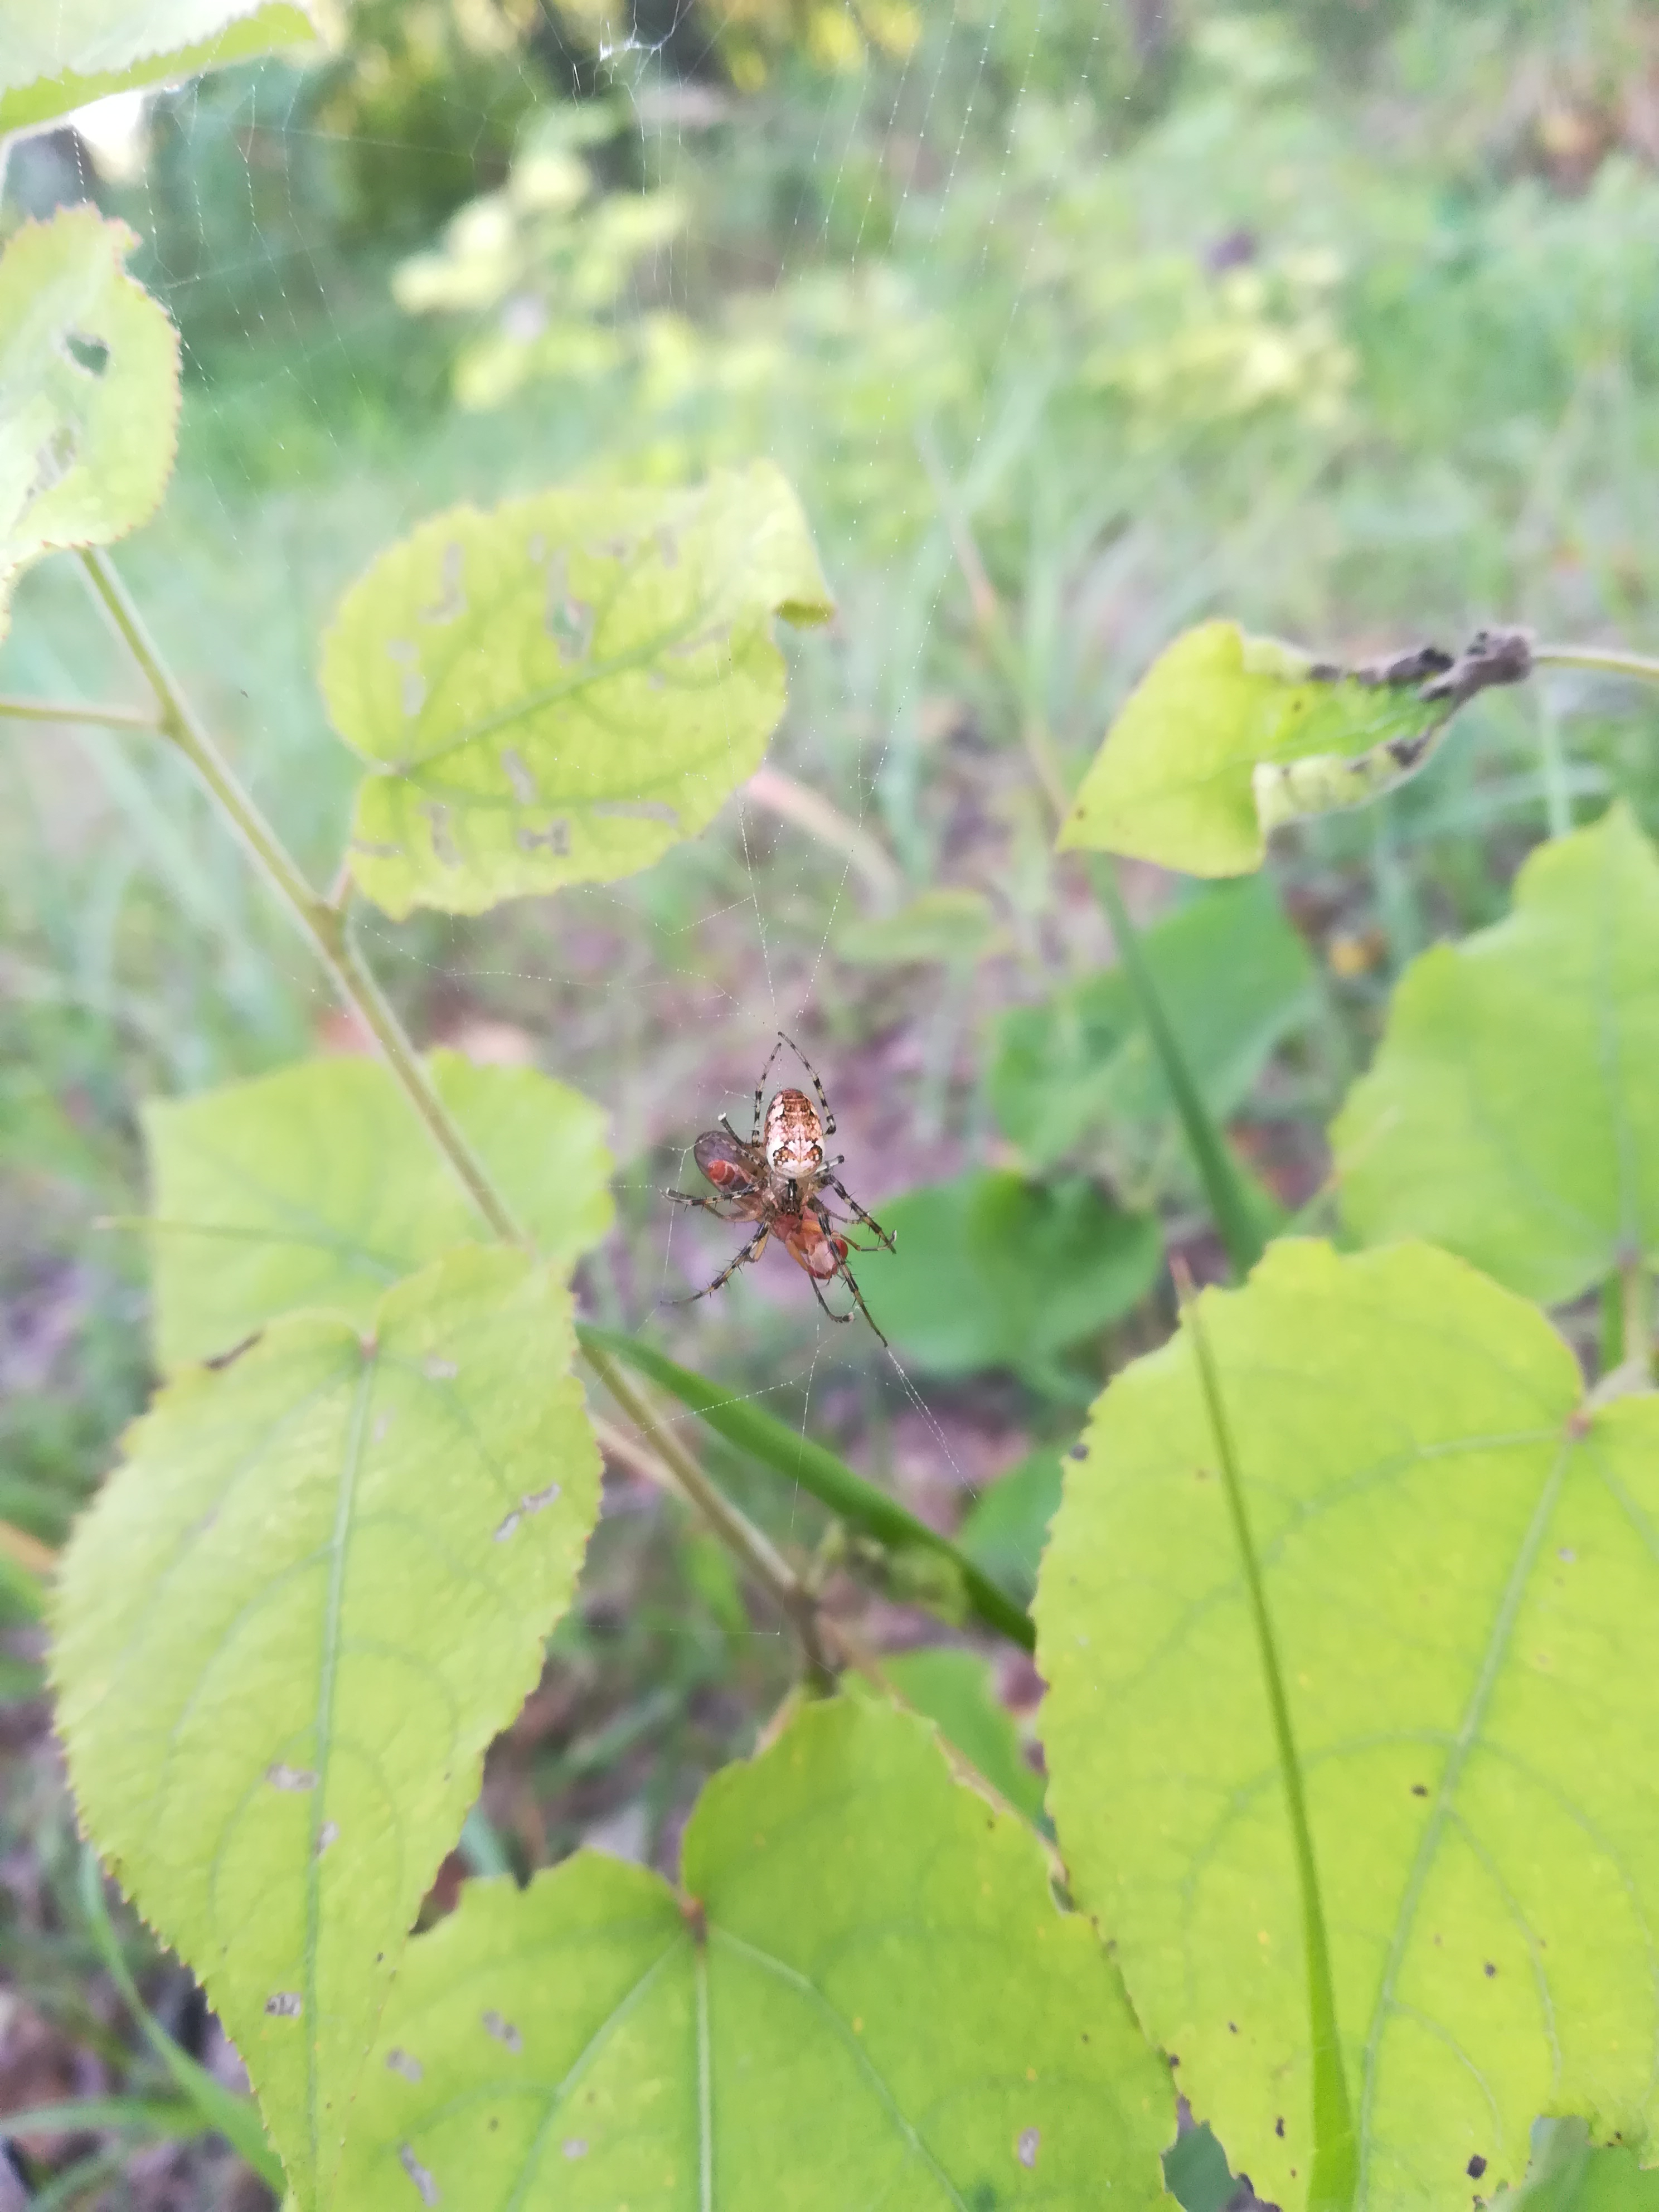spider: (647, 1021, 910, 1338)
